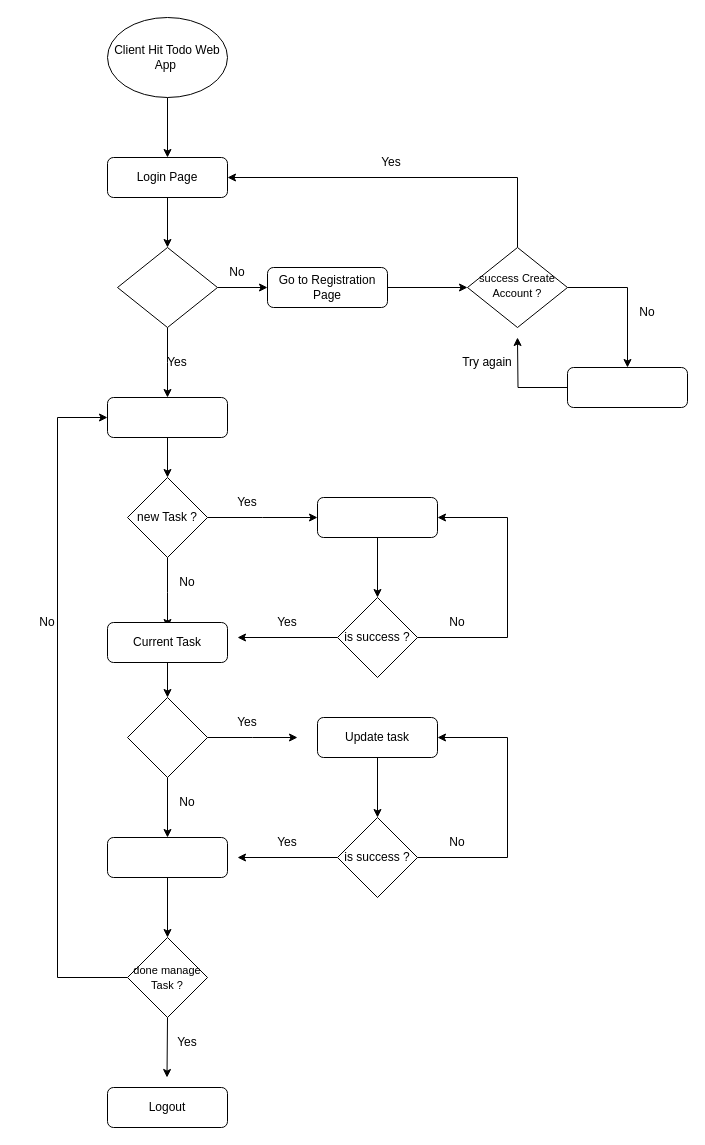
Some shapes in this 705 by 1145 pixel diagram are drawn without their labels. Here are the shapes that lost their labels. From the top down, the centre of each, then its label:
At point 167,287: "Have Account ?".
At point 627,387: "Check Error Message".
At point 167,417: "TODO Home Page".
At point 377,517: "Create New task".
At point 167,737: "need update ?".
At point 167,857: "Task Done".
